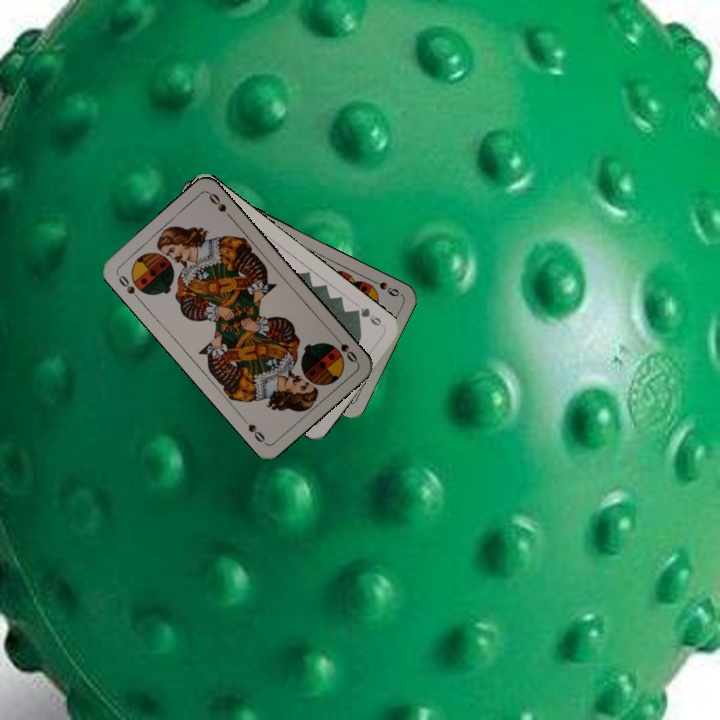G9: (350, 303, 384, 328)
S9: (365, 274, 402, 299)
SO: (330, 331, 360, 365), (113, 270, 143, 304)
